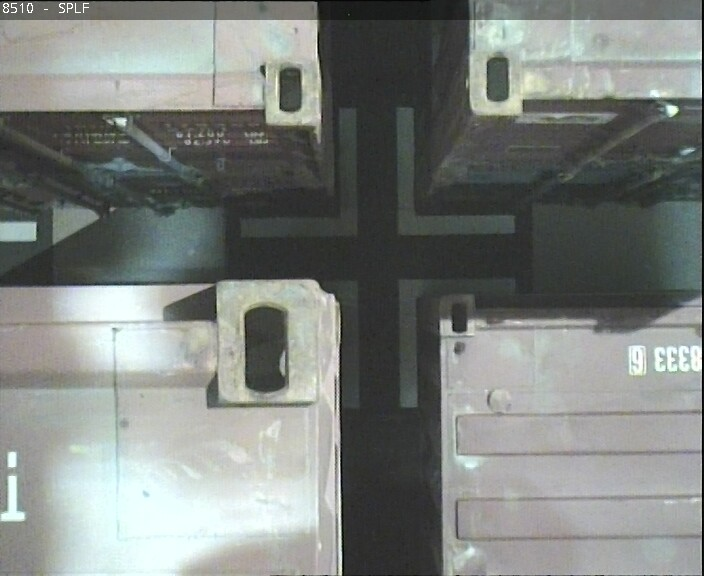groundmarker_1: (238, 107, 513, 237), (319, 278, 514, 409)
